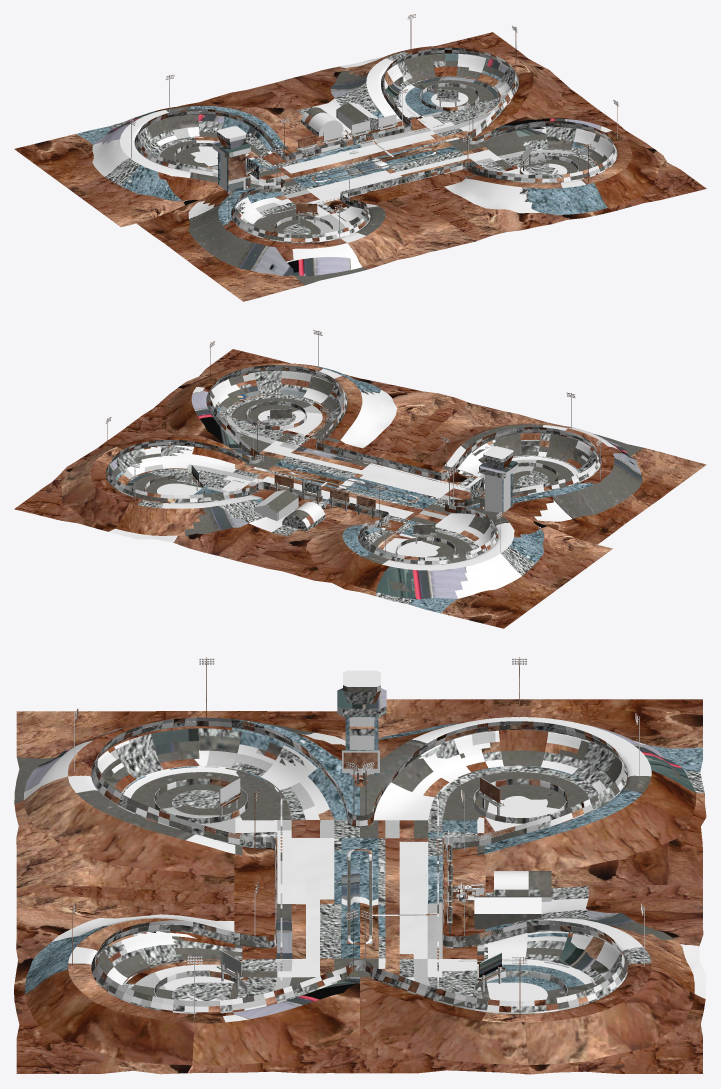
The model's file is map.fbx.
3 views of the same model, one above another, from view 1: azimuth 30°, elevation 25°; view 2: azimuth 150°, elevation 25°; view 3: azimuth 270°, elevation 25° (orthographic). The views are drawn at different scales.
Parts seen in each view (by area): view 1: surface_29; view 2: surface_29; view 3: surface_29.
Boxes of the visible parts, box(x1,y1,x2,y2) form: surface_29: box(14, 14, 706, 301); surface_29: box(14, 330, 706, 628); surface_29: box(14, 657, 706, 1074).
Size of the model in its own units: 8531 by 1178 by 6633.
